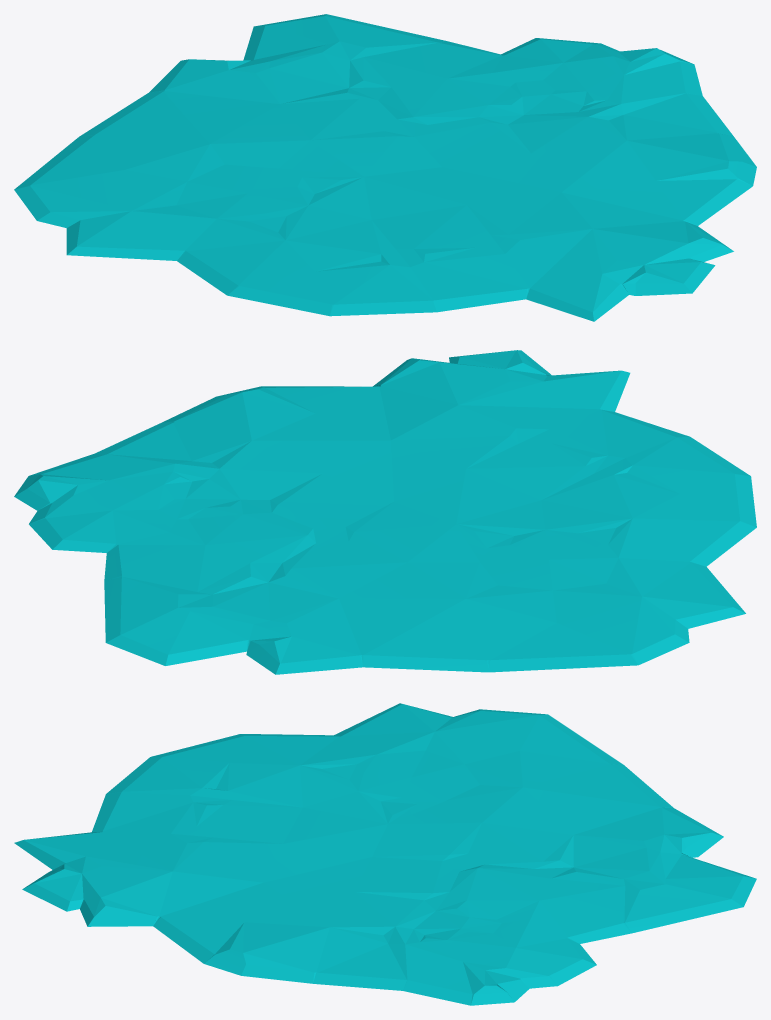
The model's file is IceFloor.glb.
3 renders of one model, top to bottom at view 1: azimuth 30°, elevation 25°; view 2: azimuth 150°, elevation 25°; view 3: azimuth 270°, elevation 25°, orthographic. The views are drawn at different scales.
Visible parts, largest first — view 1: IceFloor; view 2: IceFloor; view 3: IceFloor.
Boxes of the visible parts, bbox=[...] form: IceFloor: bbox=[14, 14, 756, 321]; IceFloor: bbox=[14, 350, 756, 674]; IceFloor: bbox=[14, 703, 756, 1005].
Bounding box in the file's own units: 77.5 × 2.32 × 80.3.
